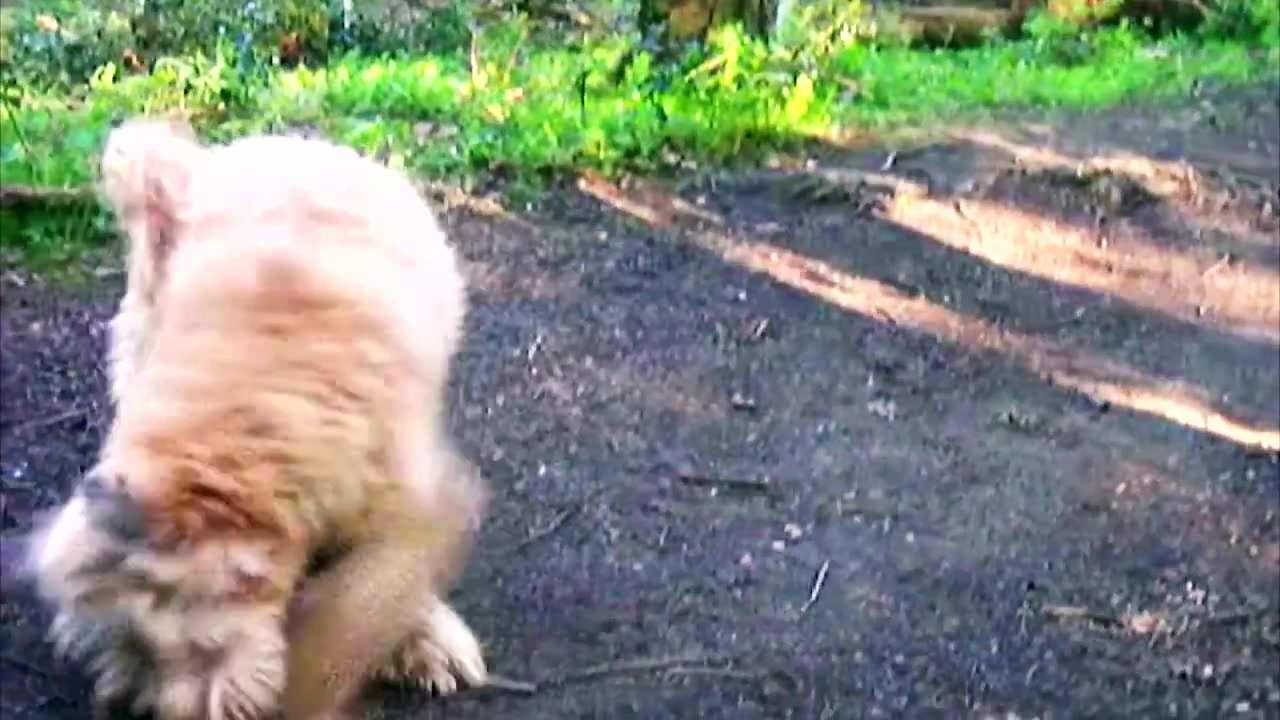dog: (4, 116, 499, 720)
